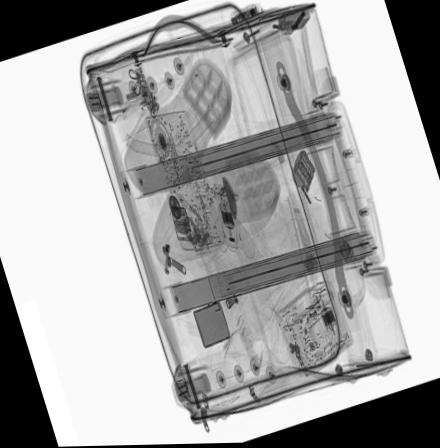Lighter: (297, 291, 329, 329)
